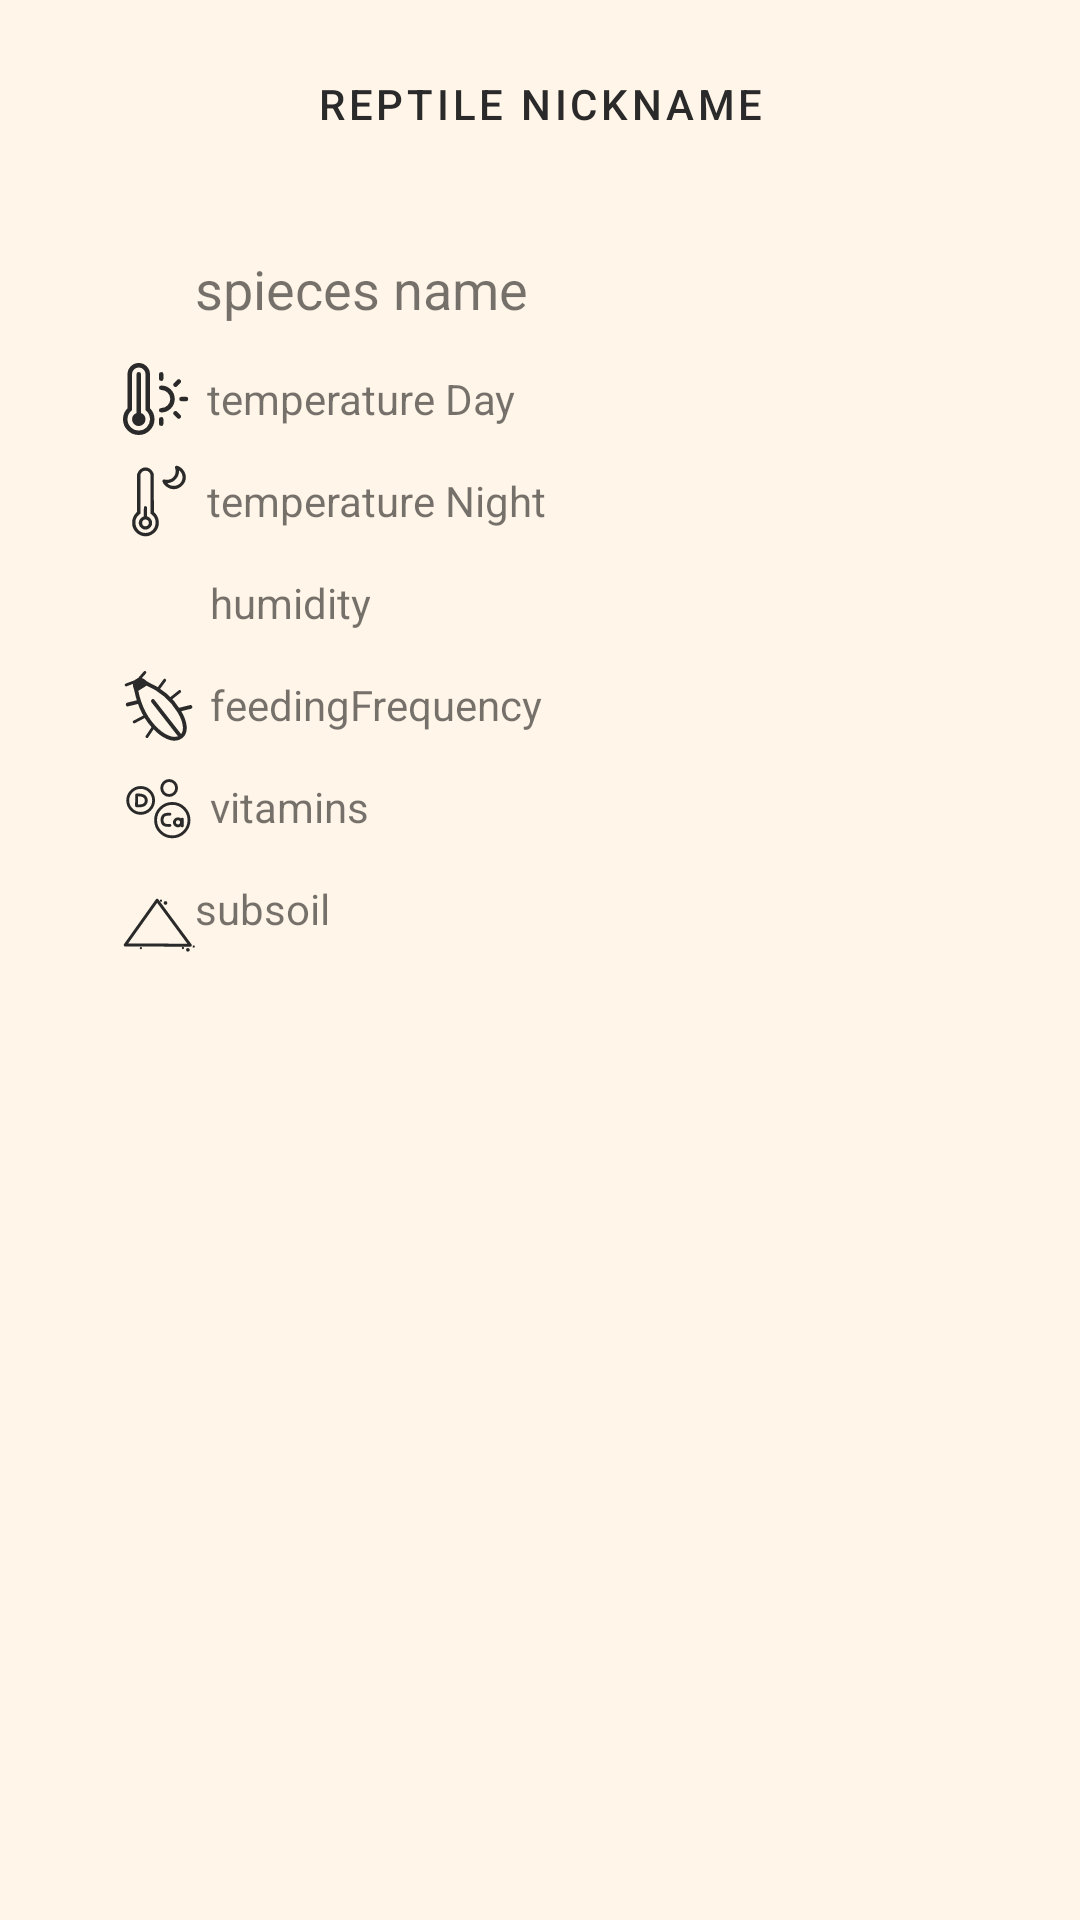

Named icons in this screenshot (1080px×1920px) and their centers, [x,y]:
food: [158,706]
thermometer moon: [159,501]
thermometer sun: [155,399]
